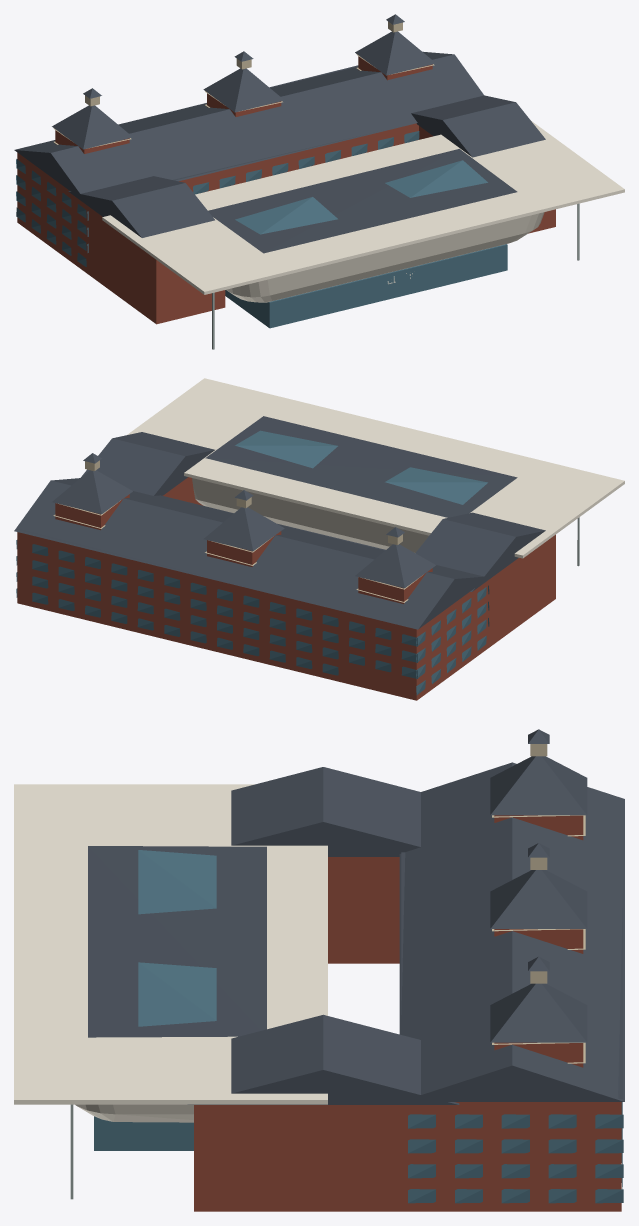
File: stedelijk-museum.lod1.glb
3 renders of one model, top to bottom at view 1: azimuth 30°, elevation 25°; view 2: azimuth 150°, elevation 25°; view 3: azimuth 270°, elevation 25°, orthographic. The views are drawn at different scales.
Parts seen in each view (by area): view 1: stedelijk-museum; view 2: stedelijk-museum; view 3: stedelijk-museum.
Part boxes in pixels (x1,y1,x2,y2): stedelijk-museum: [14, 14, 624, 349]; stedelijk-museum: [14, 378, 624, 700]; stedelijk-museum: [14, 729, 624, 1211].
Size of the model in its own units: 92.37 by 29.9 by 75.62.
